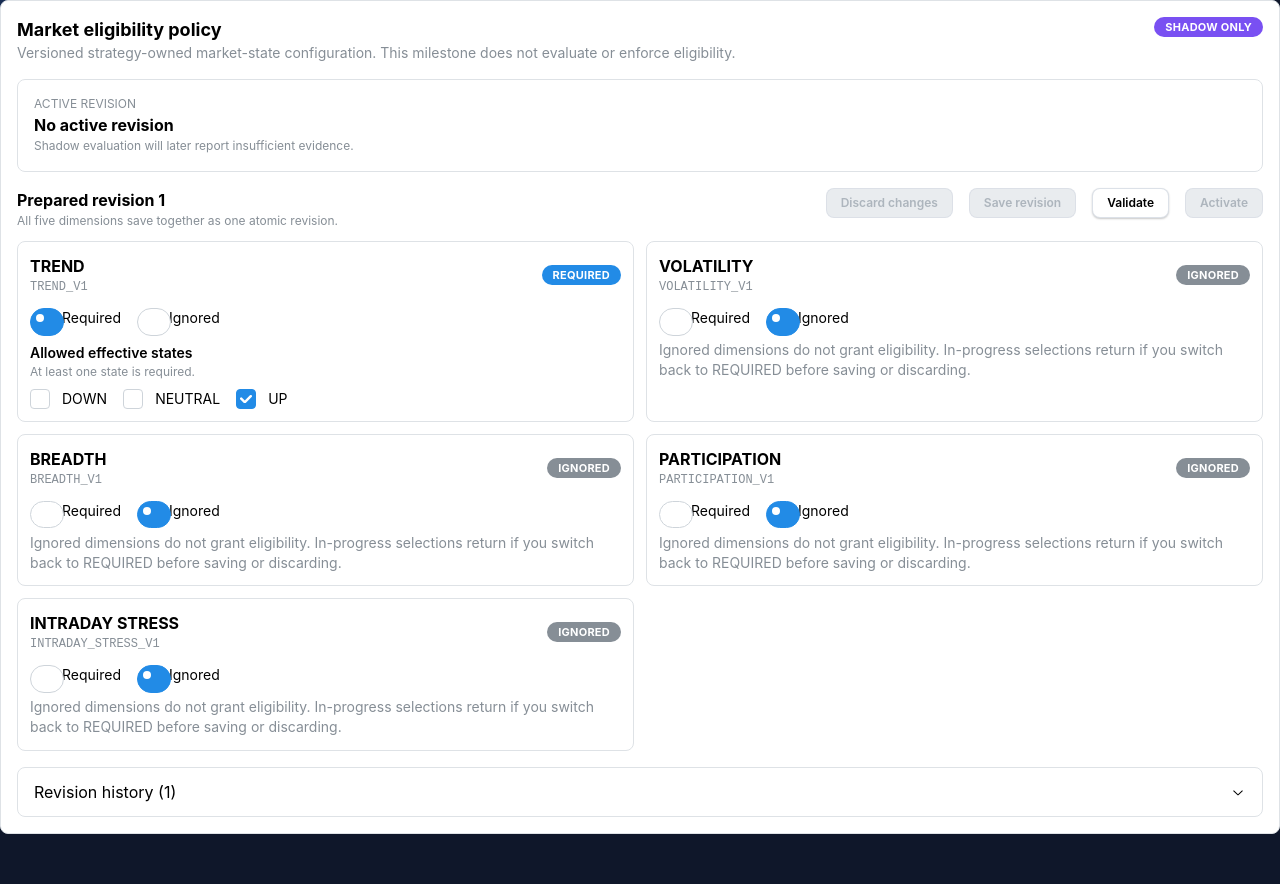
Scenario: StrategyMarketPolicyPanel › allows an all-ignored prepared draft to be saved while leaving activation validation to the backend
Click the 1st radio button labelled "Ignored" at (154, 322), box 137,308 -> 171,336
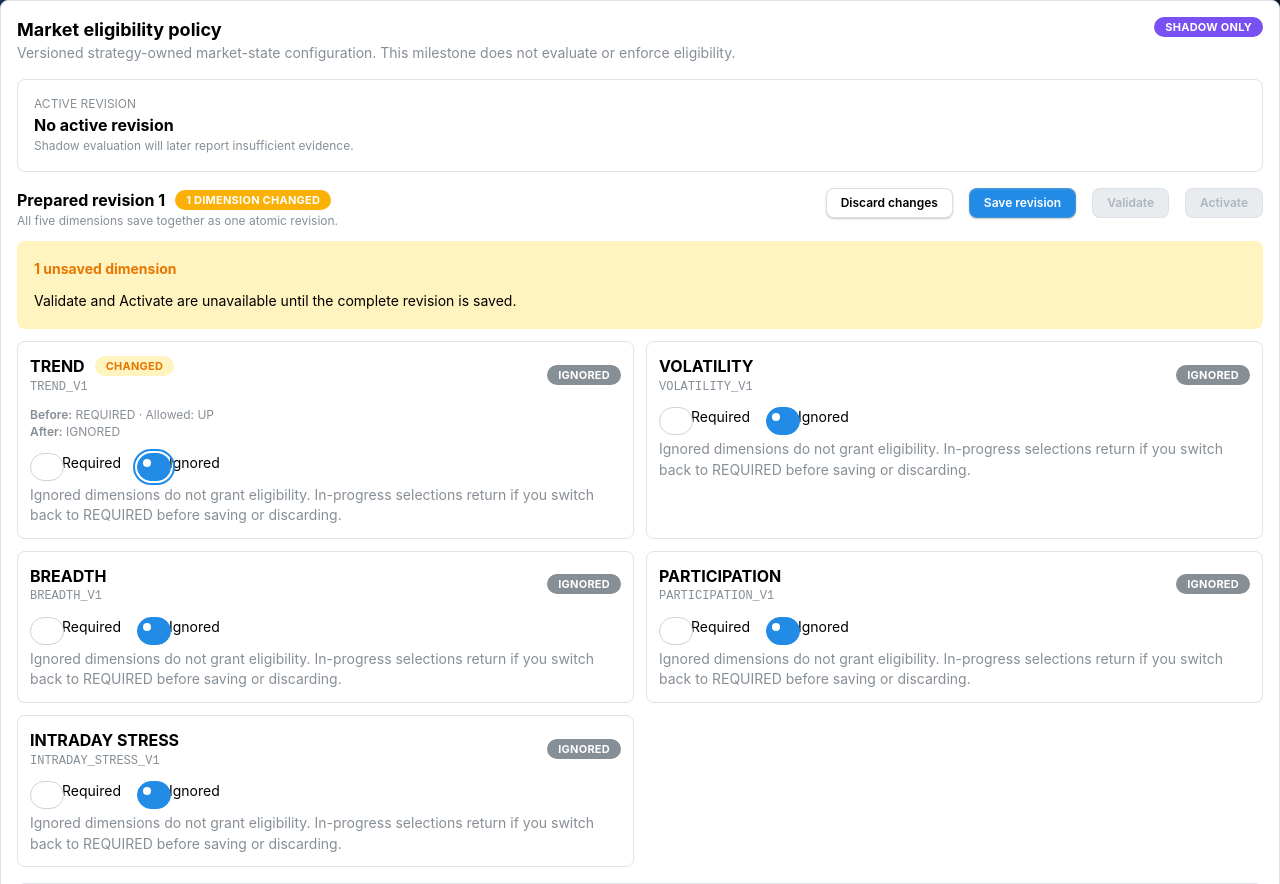
Expected: the button "Activate" is disabled, 1185,188 -> 1263,218
Now the button "Save revision" is enabled, box 969,188 -> 1076,218
Now the button "Validate" is disabled, box 1092,188 -> 1169,218
